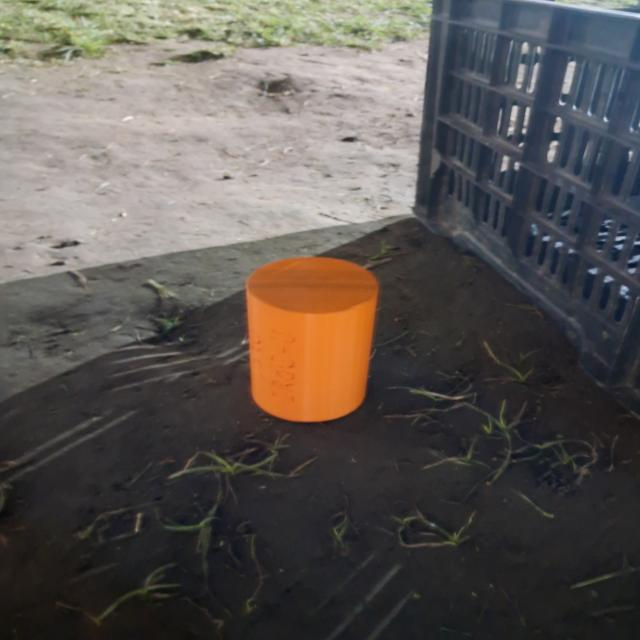Cylinder: (244, 255, 379, 423)
